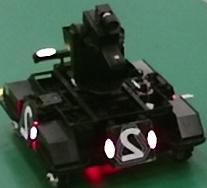armor_2: (104, 130, 158, 158)
front_2: (115, 123, 150, 165)
right_2: (20, 101, 34, 143)
